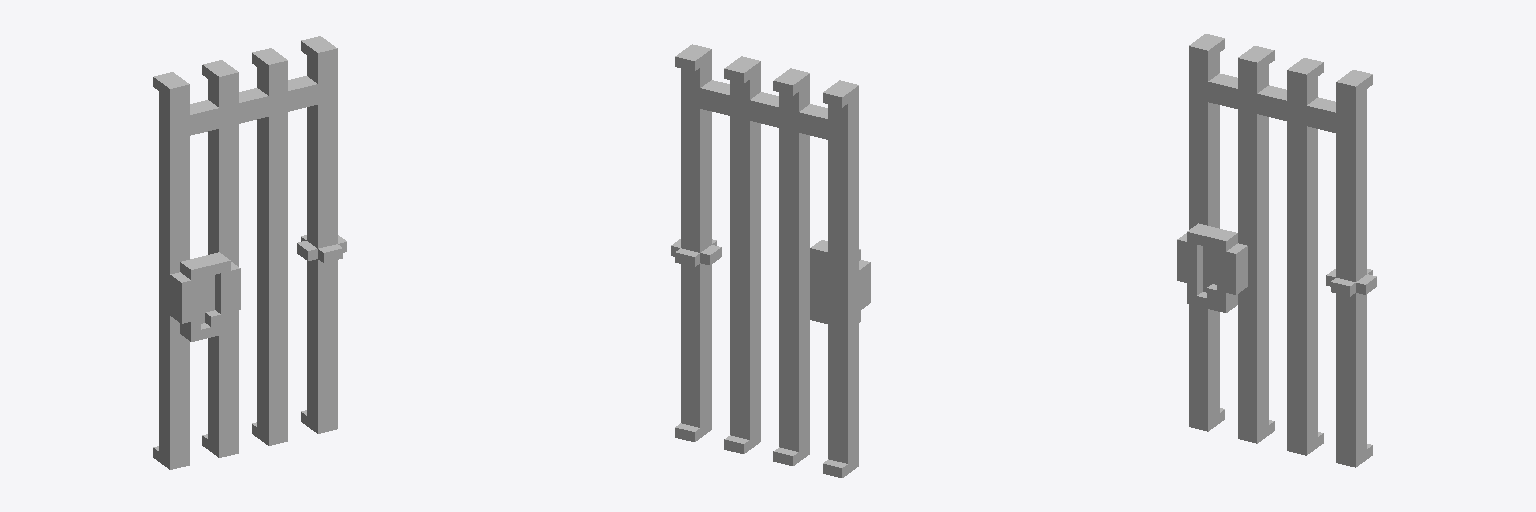
File: WallBars_Open_Small-0.obj
3 renders of one model, left to right at view 1: azimuth 30°, elevation 25°; view 2: azimuth 150°, elevation 25°; view 3: azimuth 330°, elevation 25°, orthographic.
Visible parts, largest first — view 1: WallBars_Open_Small-0.001; view 2: WallBars_Open_Small-0.001; view 3: WallBars_Open_Small-0.001.
Part boxes in pixels (x1,y1,x2,y2): WallBars_Open_Small-0.001: (153,36,346,469); WallBars_Open_Small-0.001: (671,44,870,477); WallBars_Open_Small-0.001: (1177,34,1376,467).
Bounding box in the file's own units: 1.8 × 3.7 × 0.5.